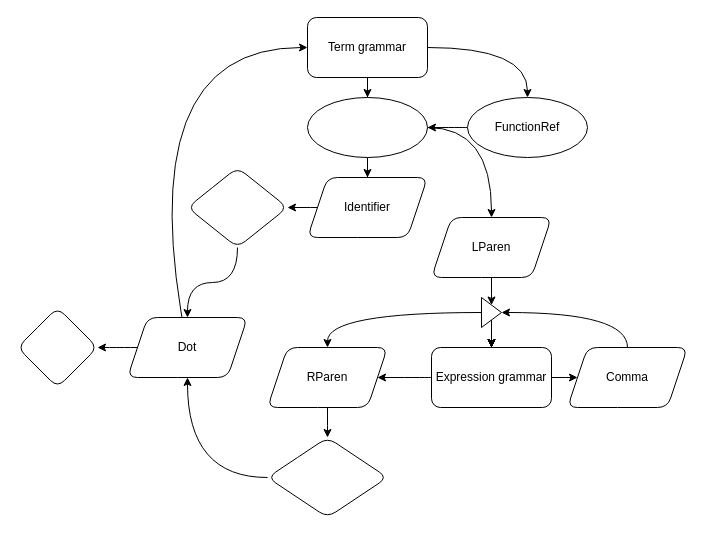
Some shapes in this 705 by 535 pixel diagram are drawn without their labels. The centre of each missing label's shape, as x and y in pixels:
TermChain: (57,347)
UnresolvedFunRef: (327,477)
UnresolvedRef: (237,207)
VariableRef: (367,127)
